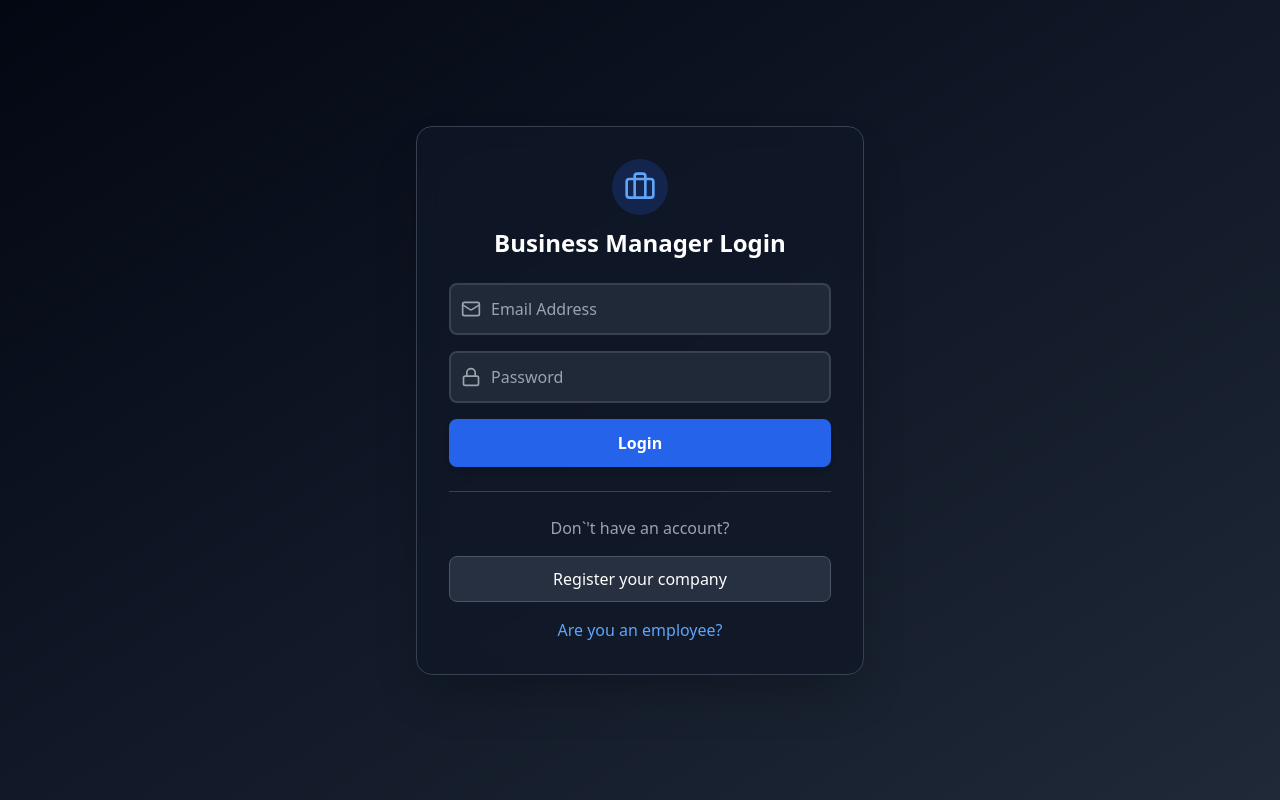
BusinessLogin › 15. maintains input values after failed login attempt
Step 1. Type "test@example.com" into the field with placeholder "Email Address" → (640, 308), box [449,282,831,334]
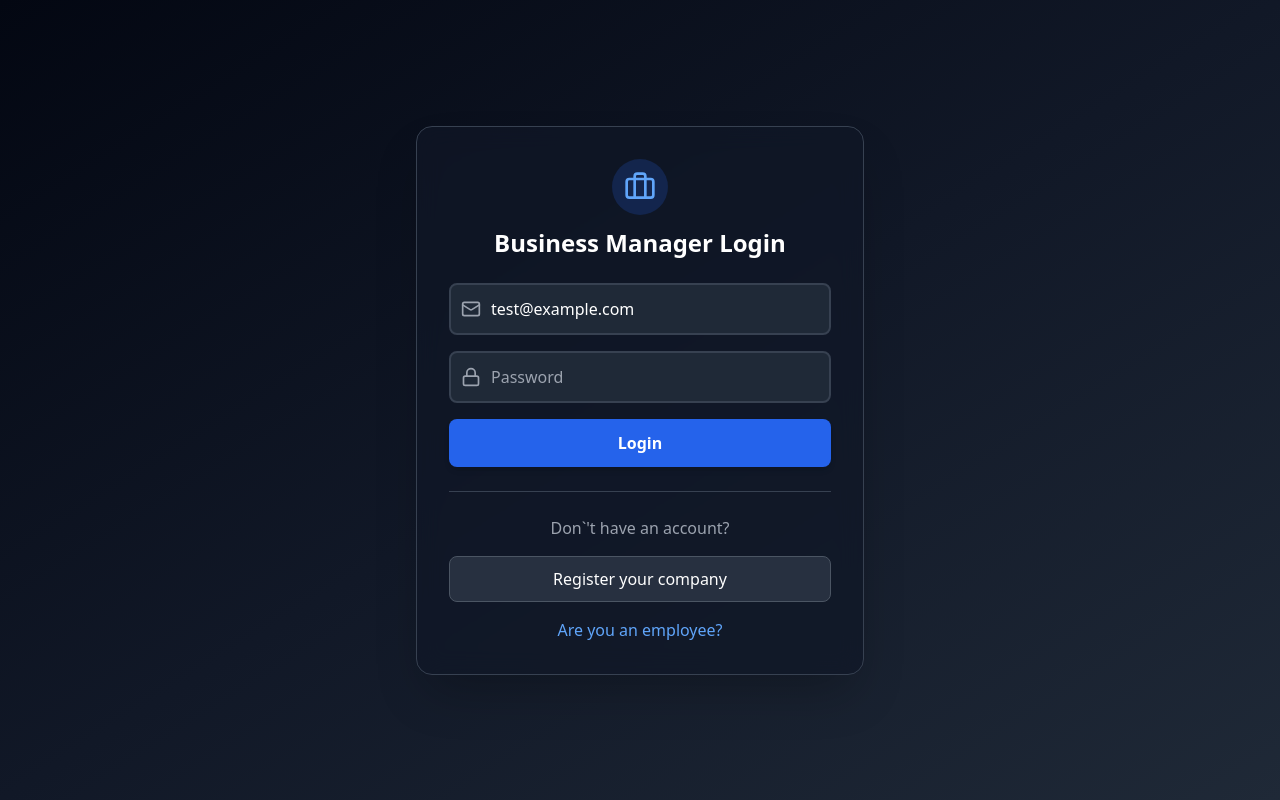
Step 2. Type "password123" into the password field with placeholder "Password" → (640, 376), box [449,350,831,402]
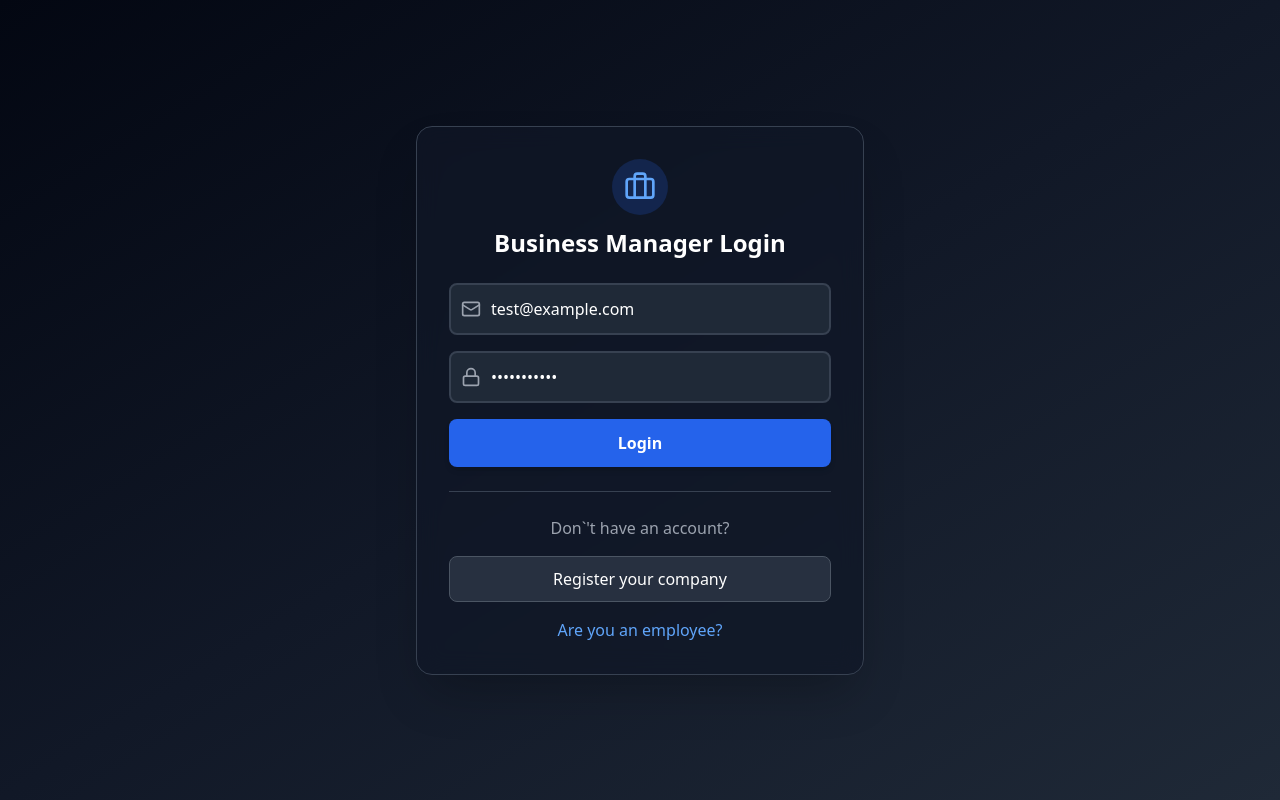
Step 3. Click the button "Login" → (640, 442), box [449,418,831,466]
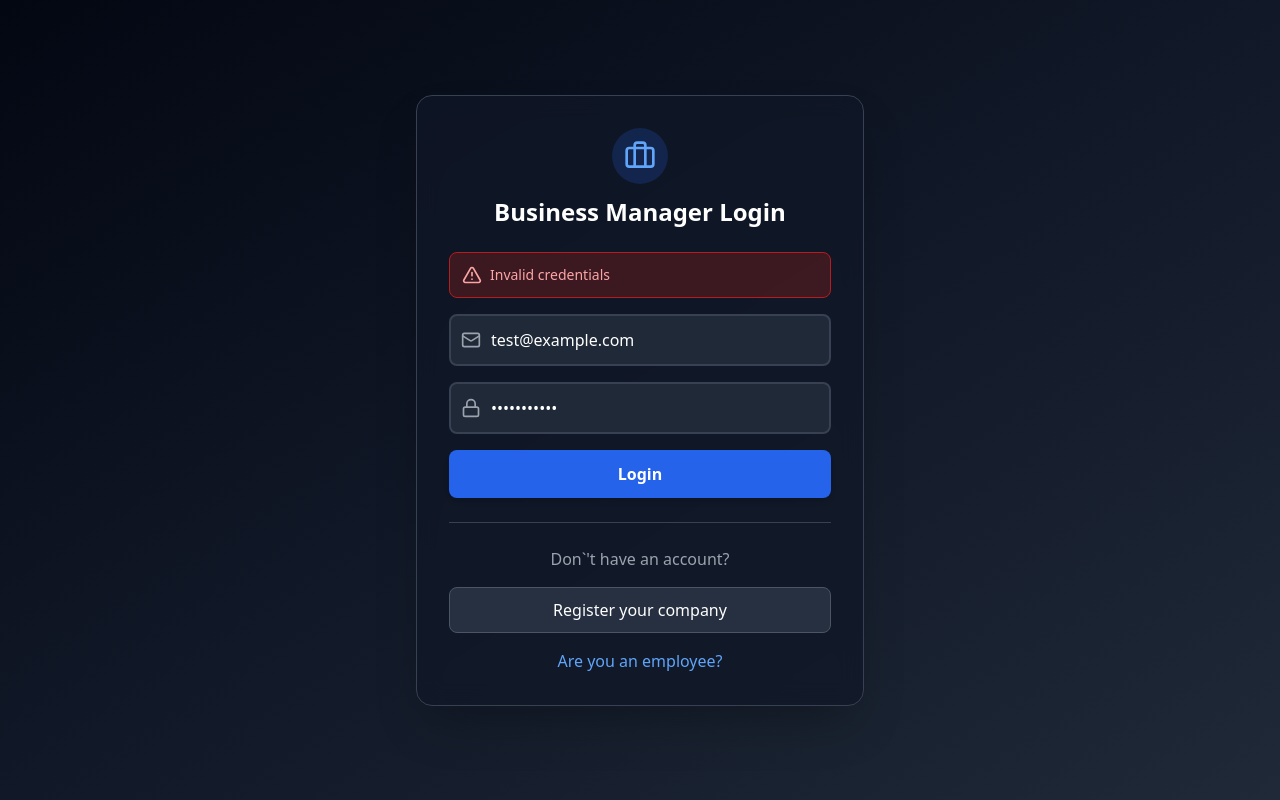
Expected: the text "Invalid credentials" is shown, [490,264,610,284]
